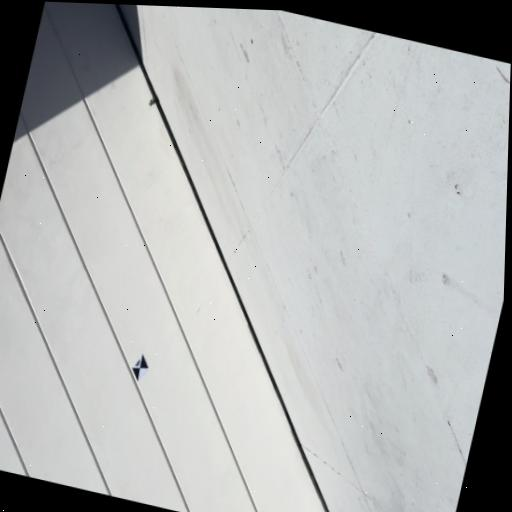target4: (132, 354, 149, 381)
